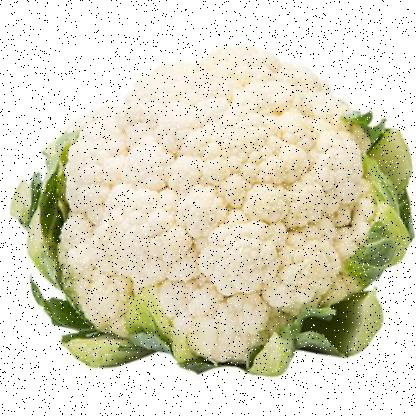cauliflower: (20, 44, 395, 371)
